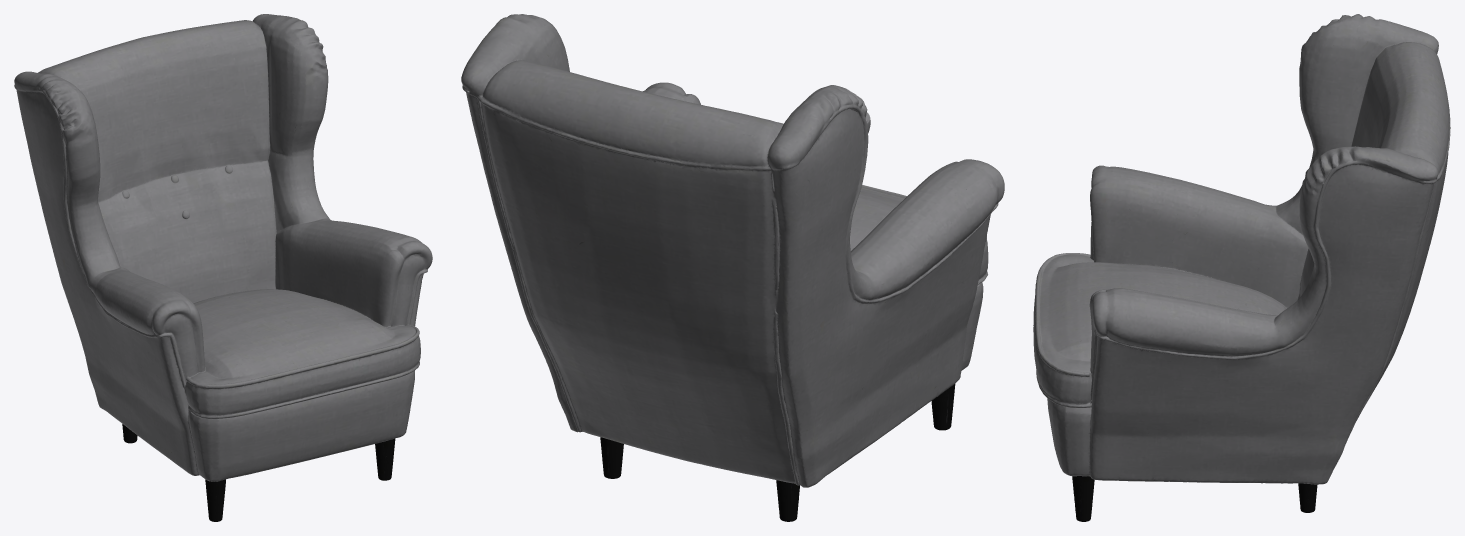
The model's file is chair.glb.
3 renders of one model, left to right at view 1: azimuth 30°, elevation 25°; view 2: azimuth 150°, elevation 25°; view 3: azimuth 270°, elevation 25°, orthographic. The views are drawn at different scales.
Parts seen in each view (by area): view 1: geometry_0; view 2: geometry_0; view 3: geometry_0.
Boxes of the visible parts, left/top/right/bottom form: geometry_0: left=14, top=14, right=432, bottom=521; geometry_0: left=461, top=14, right=1004, bottom=521; geometry_0: left=1033, top=14, right=1450, bottom=521.
Bounding box in the file's own units: 0.6969 × 0.8492 × 0.8141.
1 material, 1 textured.
